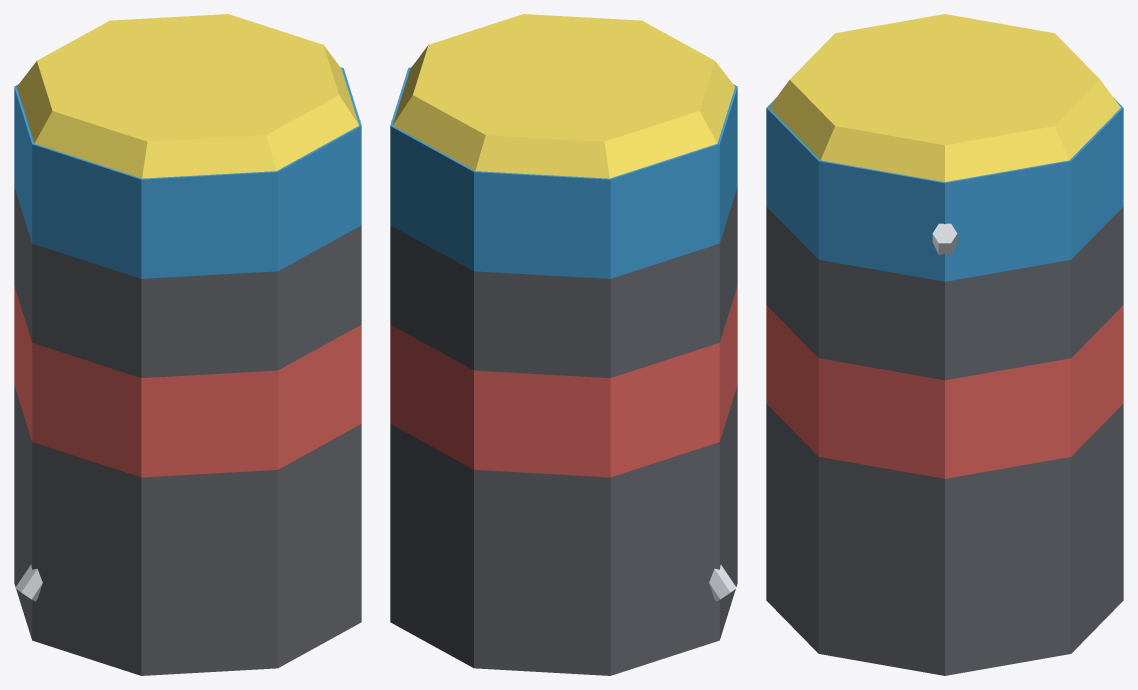
The model's file is go-kart-track-and-pit-lane-tyre-stack-8de1ed28__34350.glb.
3 renders of one model, left to right at view 1: azimuth 30°, elevation 25°; view 2: azimuth 150°, elevation 25°; view 3: azimuth 270°, elevation 25°, orthographic.
Parts seen in each view (by area): view 1: tyre-stack-charcoal, tyre-stack-canary, tyre-stack-azure, tyre-stack-red, tyre-stack-steel; view 2: tyre-stack-charcoal, tyre-stack-canary, tyre-stack-azure, tyre-stack-red, tyre-stack-steel; view 3: tyre-stack-charcoal, tyre-stack-canary, tyre-stack-azure, tyre-stack-red, tyre-stack-steel.
Boxes of the visible parts, box(x1,y1,x2,y2) form: tyre-stack-charcoal: box(14, 187, 361, 675); tyre-stack-canary: box(17, 14, 358, 178); tyre-stack-azure: box(14, 67, 361, 278); tyre-stack-red: box(14, 286, 361, 477); tyre-stack-steel: box(15, 120, 360, 601); tyre-stack-charcoal: box(390, 187, 737, 675); tyre-stack-canary: box(393, 14, 734, 178); tyre-stack-azure: box(390, 67, 737, 278); tyre-stack-red: box(390, 286, 737, 477); tyre-stack-steel: box(391, 120, 736, 601); tyre-stack-charcoal: box(766, 206, 1123, 675); tyre-stack-canary: box(769, 14, 1120, 181); tyre-stack-azure: box(766, 97, 1123, 281); tyre-stack-red: box(766, 305, 1123, 478); tyre-stack-steel: box(932, 223, 957, 254).
Size of the model in its own units: 0.7517 by 1.11 by 0.69.
